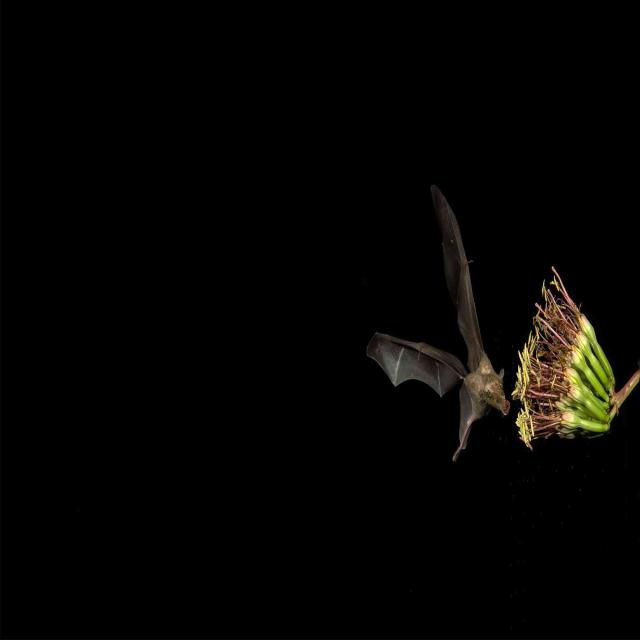Bat: (371, 184, 512, 463)
